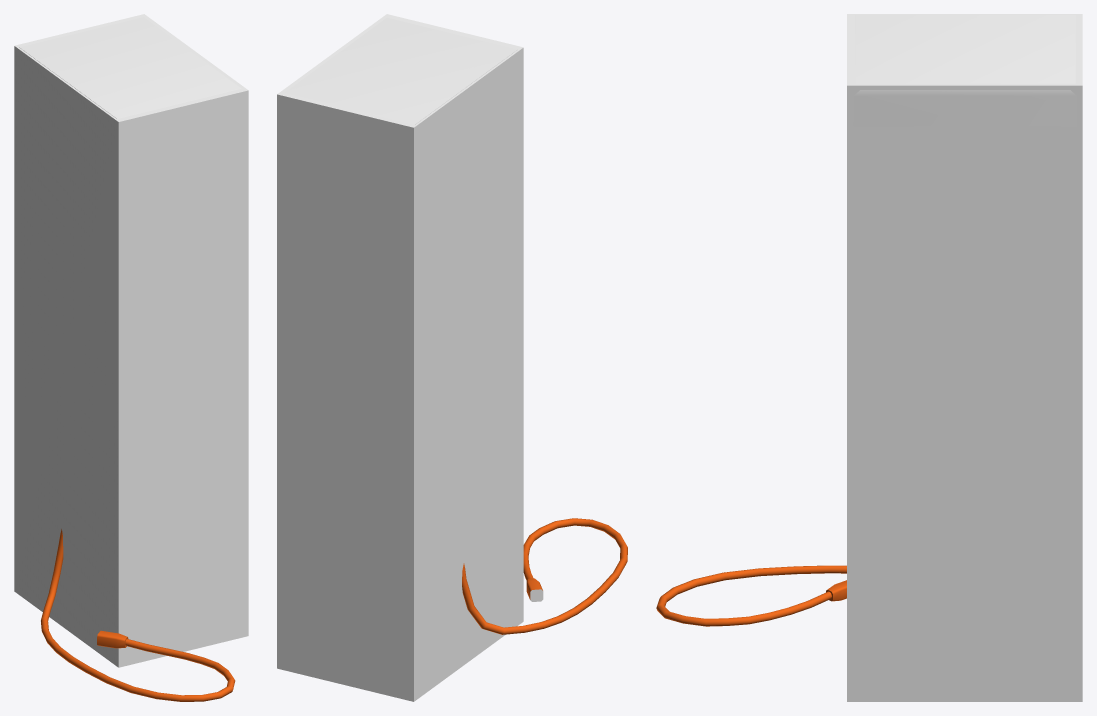
File: ut_hookup_close.DAE
3 renders of one model, left to right at view 1: azimuth 30°, elevation 25°; view 2: azimuth 150°, elevation 25°; view 3: azimuth 270°, elevation 25°, orthographic. The views are drawn at different scales.
Visible parts, largest first — view 1: Colmesh-1, ut_hookup_close50; view 2: Colmesh-1, ut_hookup_close50; view 3: Colmesh-1, ut_hookup_close50.
Part boxes in pixels (left/top/right/bottom): Colmesh-1: left=14, top=14, right=248, bottom=667; ut_hookup_close50: left=19, top=17, right=240, bottom=701; Colmesh-1: left=277, top=14, right=523, bottom=701; ut_hookup_close50: left=284, top=17, right=627, bottom=634; Colmesh-1: left=847, top=14, right=1082, bottom=701; ut_hookup_close50: left=656, top=15, right=1076, bottom=626.
Bounding box in the file's own units: 29.68 × 51.54 × 82.23.
